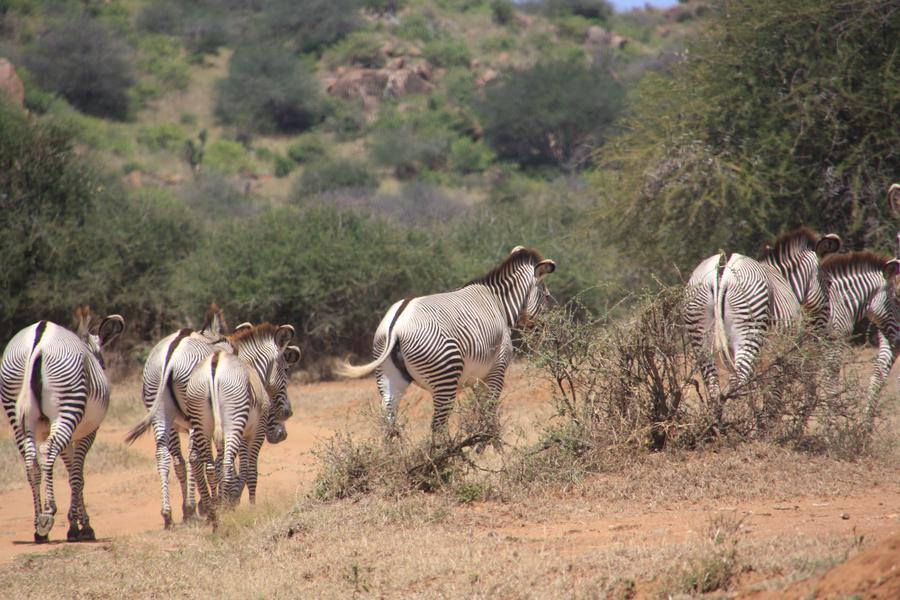zebra_grevys: (386, 291, 511, 369)
